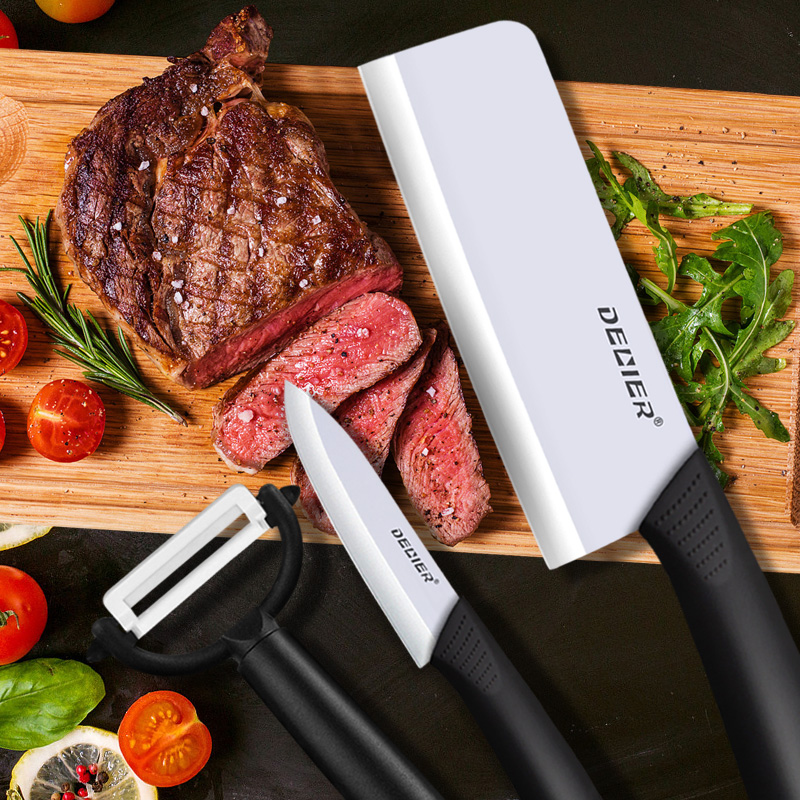knief: (349, 38, 800, 799)
